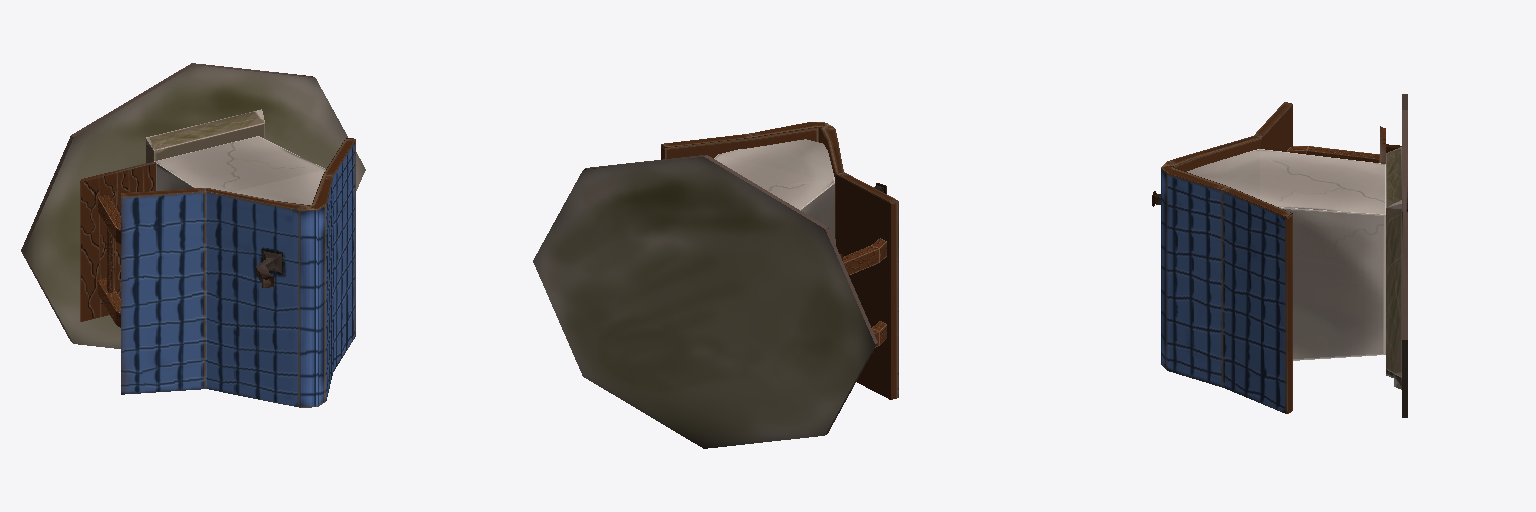
The picture shows the model from 3 angles: view 1: azimuth 30°, elevation 25°; view 2: azimuth 150°, elevation 25°; view 3: azimuth 270°, elevation 25°; orthographic projection.
Parts seen in each view (by area): view 1: Object.1; view 2: Object.1; view 3: Object.1.
Part boxes in pixels (x1,y1,x2,y2): Object.1: (21,63,365,407); Object.1: (533,122,898,448); Object.1: (1152,94,1407,417).
Bounding box in the file's own units: 185 × 151 × 120.
1 materials, 1 textured.